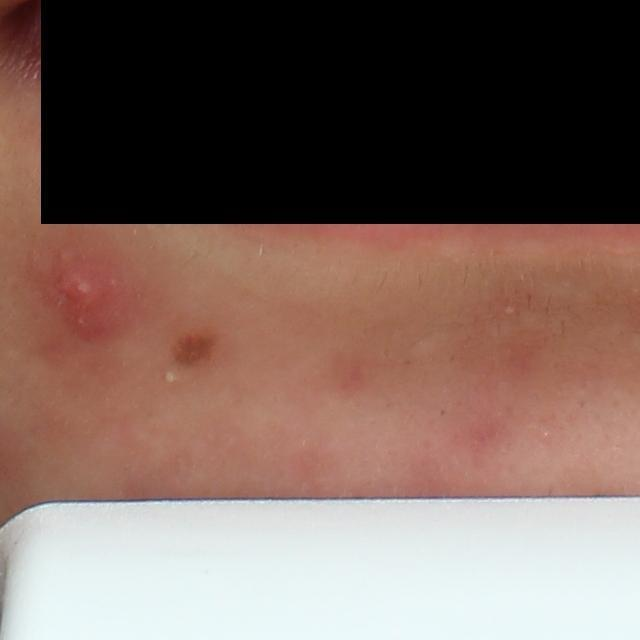comedo: (503, 304, 517, 317)
nevus: (166, 326, 226, 370)
papule: (49, 246, 118, 314)
